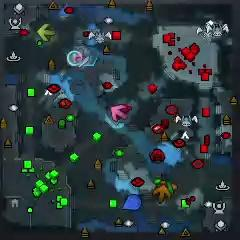Other: (67, 50, 83, 66)
p1: (122, 193, 141, 211)
x1: (111, 104, 127, 122)
x2: (38, 23, 56, 41)
x3: (73, 49, 89, 69)
x4: (156, 178, 174, 194)
x5: (153, 185, 171, 204)
